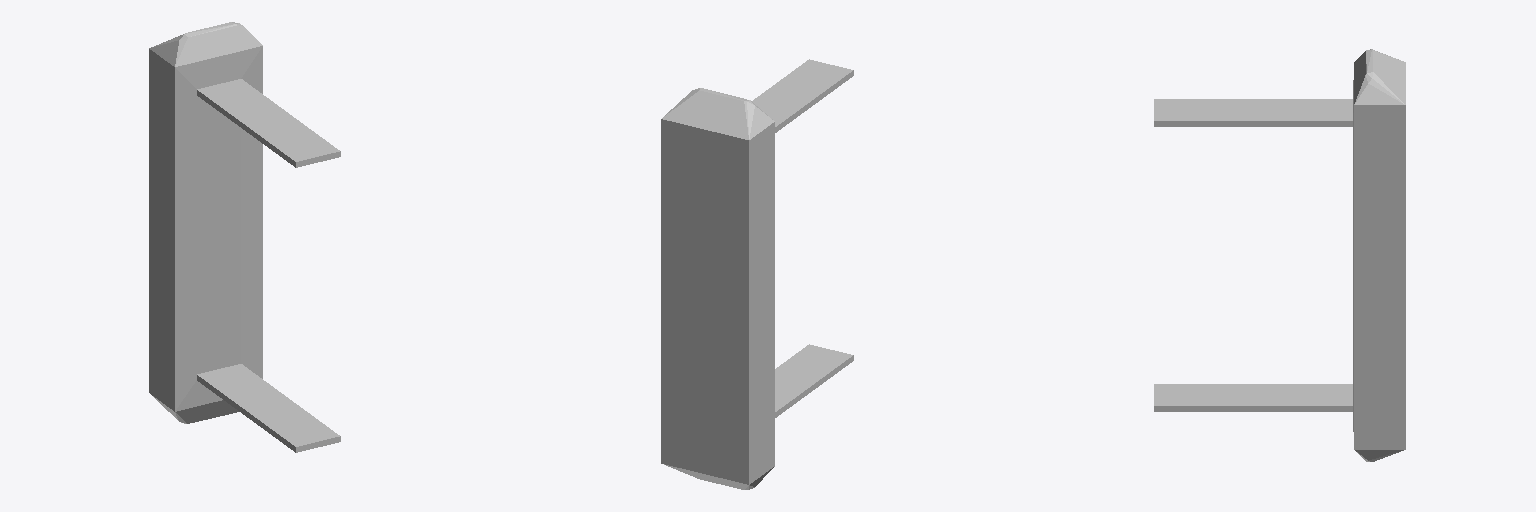
File: grill_base_vhacd.obj
The picture shows the model from 3 angles: view 1: azimuth 30°, elevation 25°; view 2: azimuth 150°, elevation 25°; view 3: azimuth 270°, elevation 25°; orthographic projection.
Parts seen in each view (by area): view 1: convex_0, convex_1, convex_2; view 2: convex_0, convex_2, convex_1; view 3: convex_0, convex_1, convex_2.
Part boxes in pixels (left/top/right/bottom): convex_0: left=149, top=22, right=262, bottom=423; convex_1: left=197, top=364, right=340, bottom=452; convex_2: left=197, top=79, right=340, bottom=167; convex_0: left=661, top=88, right=774, bottom=489; convex_2: left=752, top=59, right=853, bottom=132; convex_1: left=775, top=344, right=853, bottom=417; convex_0: left=1353, top=49, right=1405, bottom=461; convex_1: left=1154, top=384, right=1352, bottom=411; convex_2: left=1154, top=99, right=1352, bottom=126.
Bounding box in the file's own units: 102 × 429 × 251.